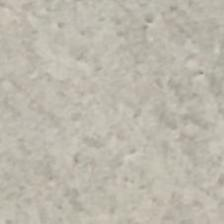Non_Crack: (49, 31, 194, 210)
